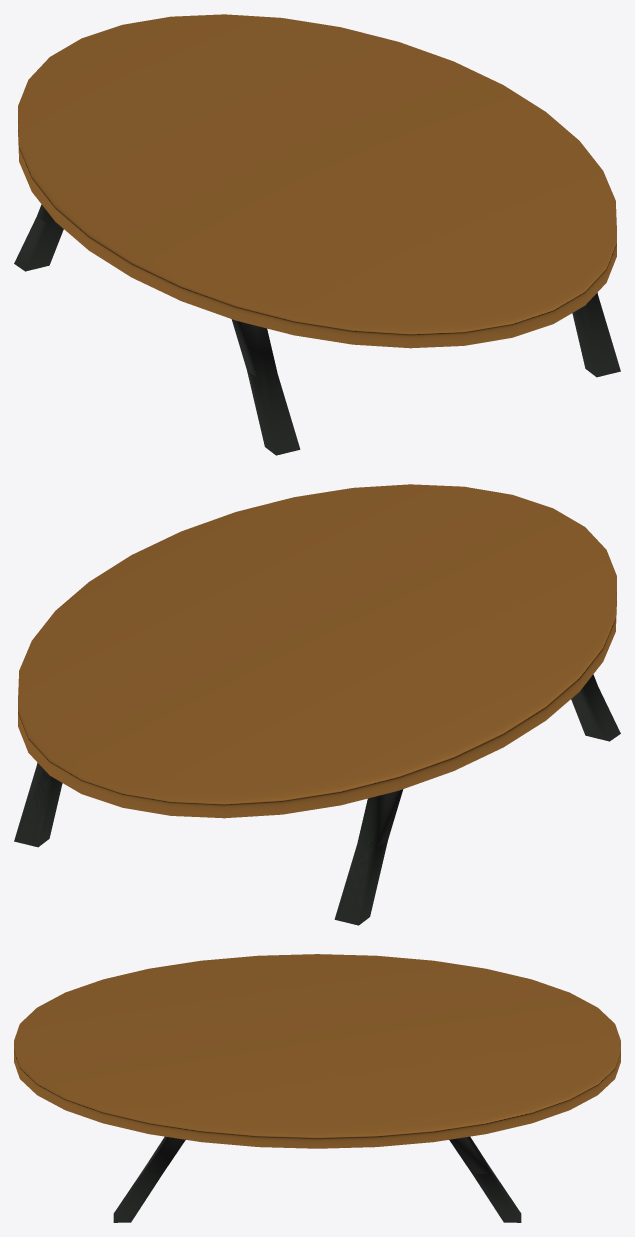
File: COFFETABLE.fbx
3 renders of one model, top to bottom at view 1: azimuth 30°, elevation 25°; view 2: azimuth 150°, elevation 25°; view 3: azimuth 270°, elevation 25°, orthographic. The views are drawn at different scales.
Parts seen in each view (by area): view 1: Cylinder; view 2: Cylinder; view 3: Cylinder.
Boxes of the visible parts, box(x1,y1,x2,y2) form: Cylinder: box(14, 14, 620, 455); Cylinder: box(14, 484, 620, 925); Cylinder: box(14, 954, 620, 1222).
Size of the model in its own units: 416 by 130 by 615.
